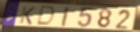2: (114, 9, 133, 30)
5: (77, 7, 95, 30)
8: (97, 8, 113, 29)
D: (35, 6, 56, 27)
I: (61, 6, 70, 28)
K: (19, 6, 37, 26)
